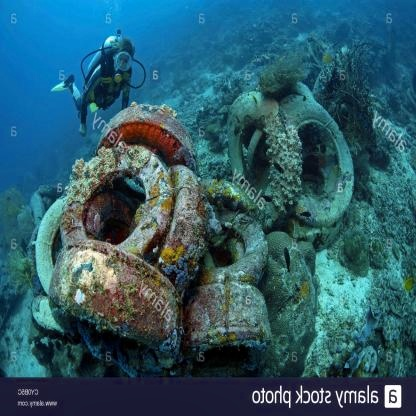tire: (44, 237, 190, 365), (56, 143, 169, 252), (279, 93, 361, 228), (223, 96, 301, 214), (176, 278, 278, 362), (89, 100, 198, 164), (159, 154, 205, 276), (200, 203, 268, 281), (19, 178, 64, 288)
